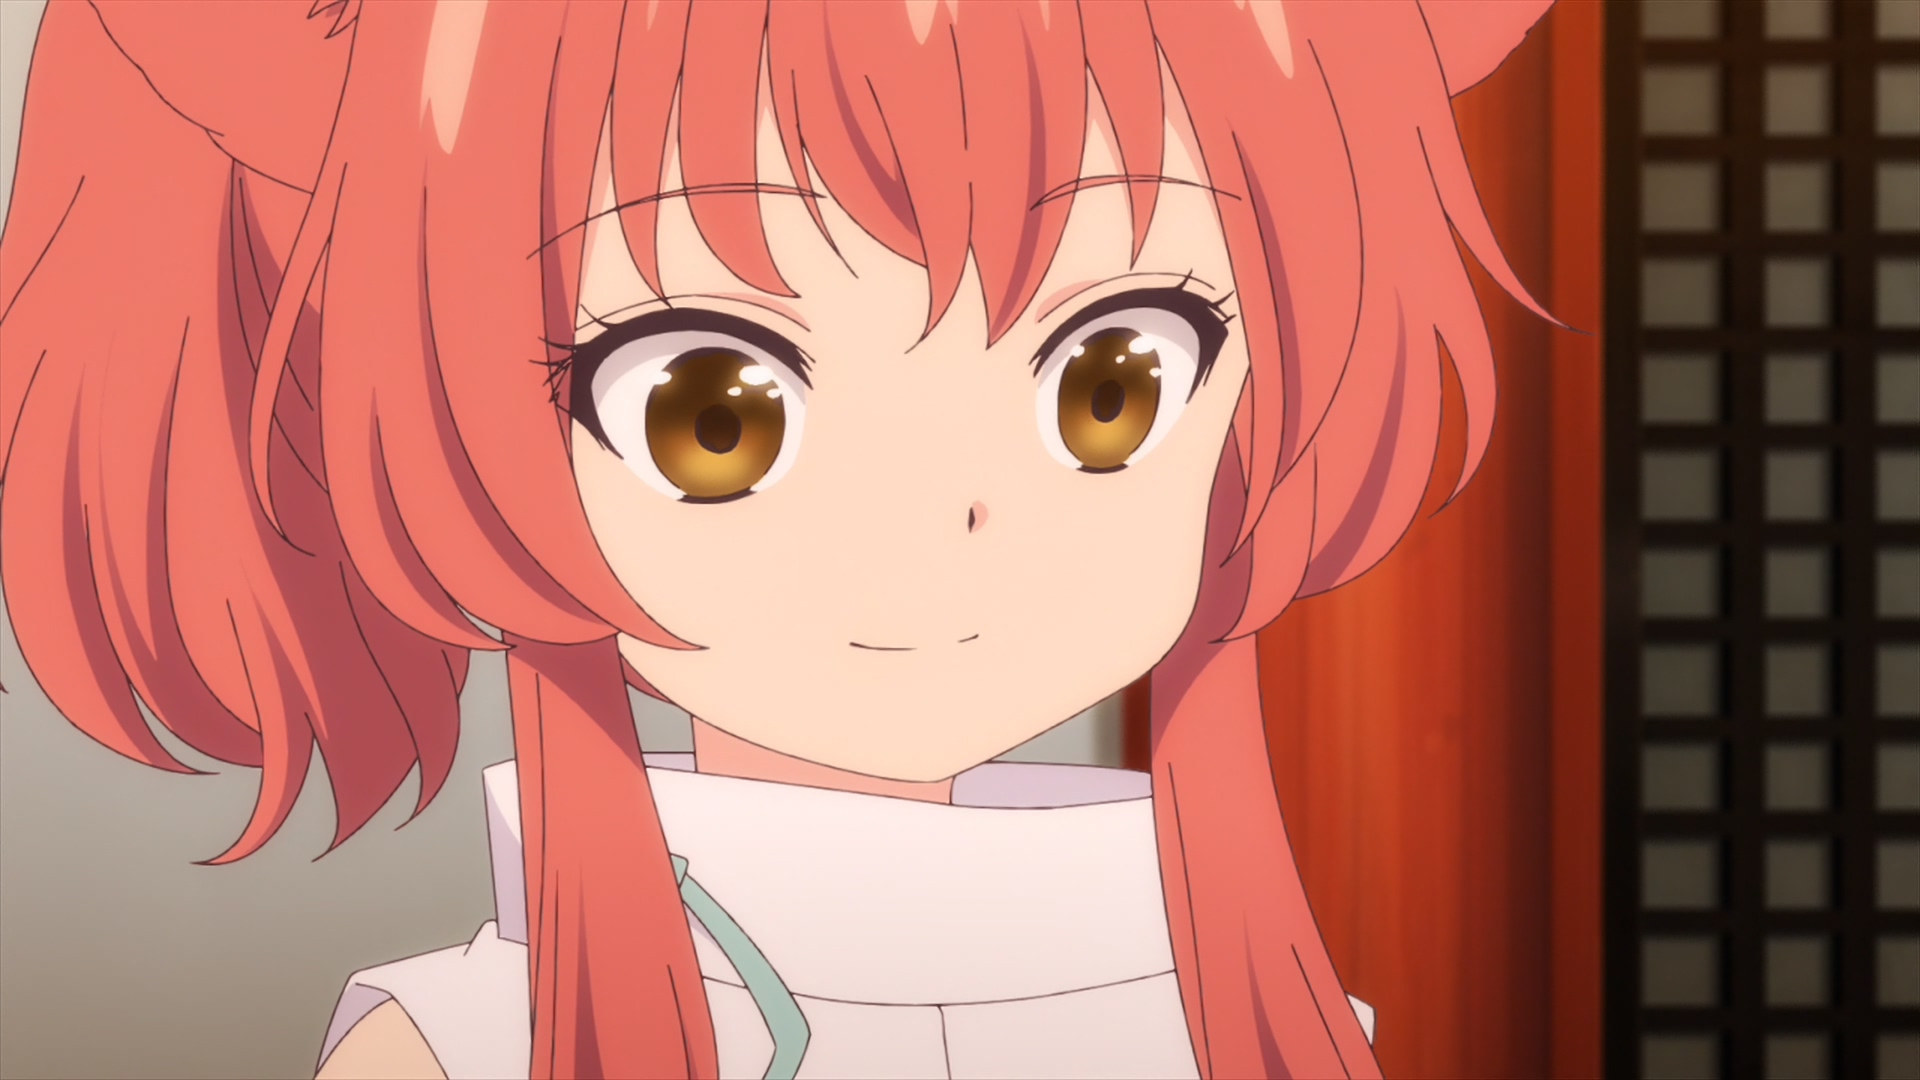椿: (1, 1, 1594, 1080)
